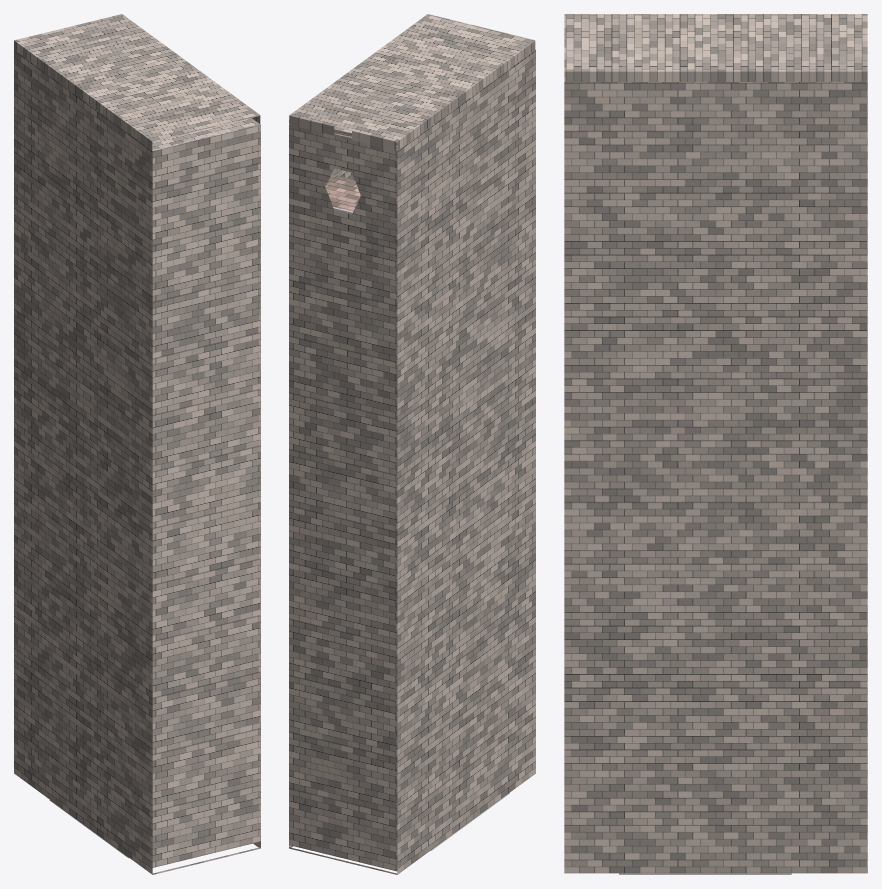
Rendered from Room3.fbx.
The picture shows the model from 3 angles, left to right: view 1: azimuth 30°, elevation 25°; view 2: azimuth 150°, elevation 25°; view 3: azimuth 270°, elevation 25°; orthographic projection. The views are drawn at different scales.
Visible parts, largest first — view 1: Plane.001; view 2: Plane.001, Plane; view 3: Plane.001.
Part boxes in pixels (x1,y1,x2,y2): Plane.001: (14,14,260,874); Plane.001: (289,14,535,874); Plane: (325,149,509,850); Plane.001: (564,14,867,873).
Bounding box in the file's own units: 1220 × 7920 × 2710.
Materials: 3 (2 with a texture image).
